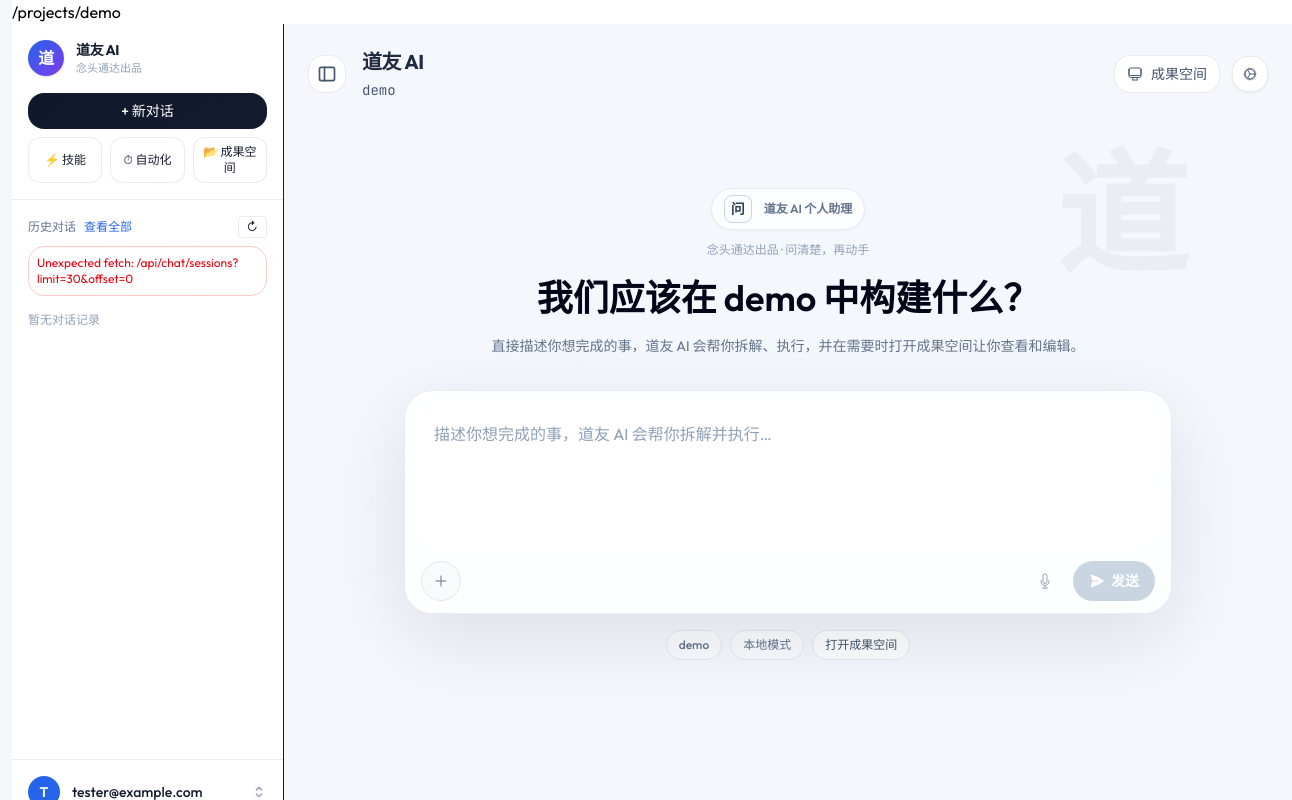
Test case: ChatPage workbench dock › can send another task after a confirmed pause
Type "先做一个长任务" into the text box at (788, 475), box top-left (417, 403), bottom-right (1159, 547)
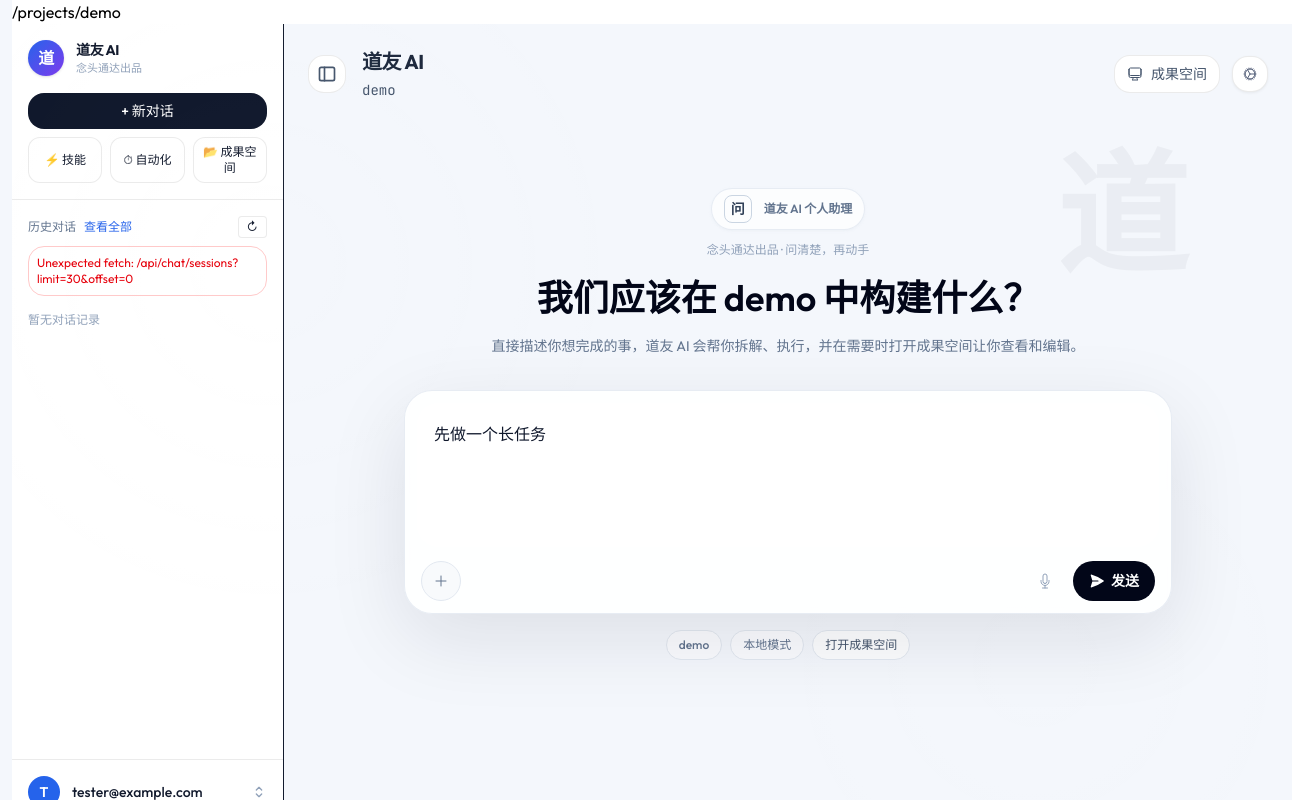
Click the button "发送" at (1114, 581), box top-left (1073, 561), bottom-right (1155, 601)
(page scrolled)
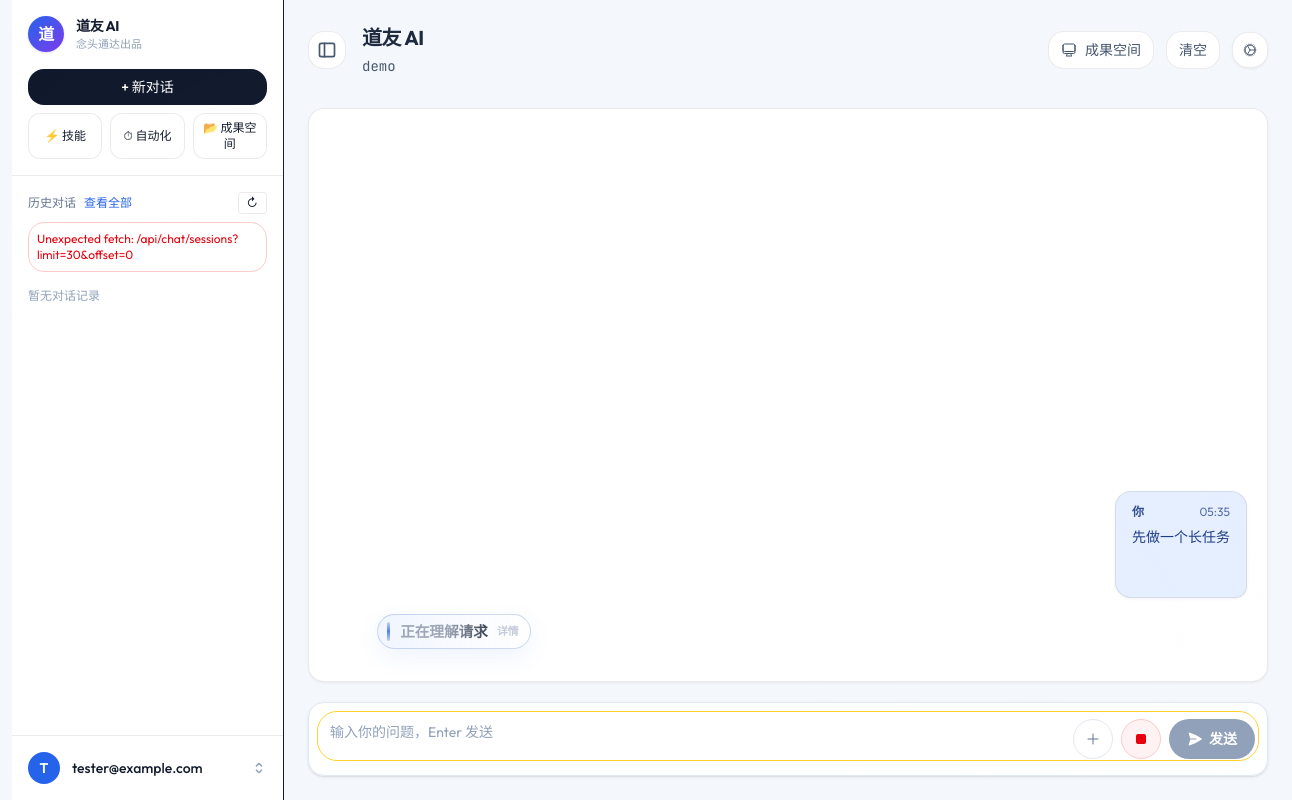
Click the button named "暂停这次任务" at (1141, 739), box top-left (1121, 719), bottom-right (1161, 759)
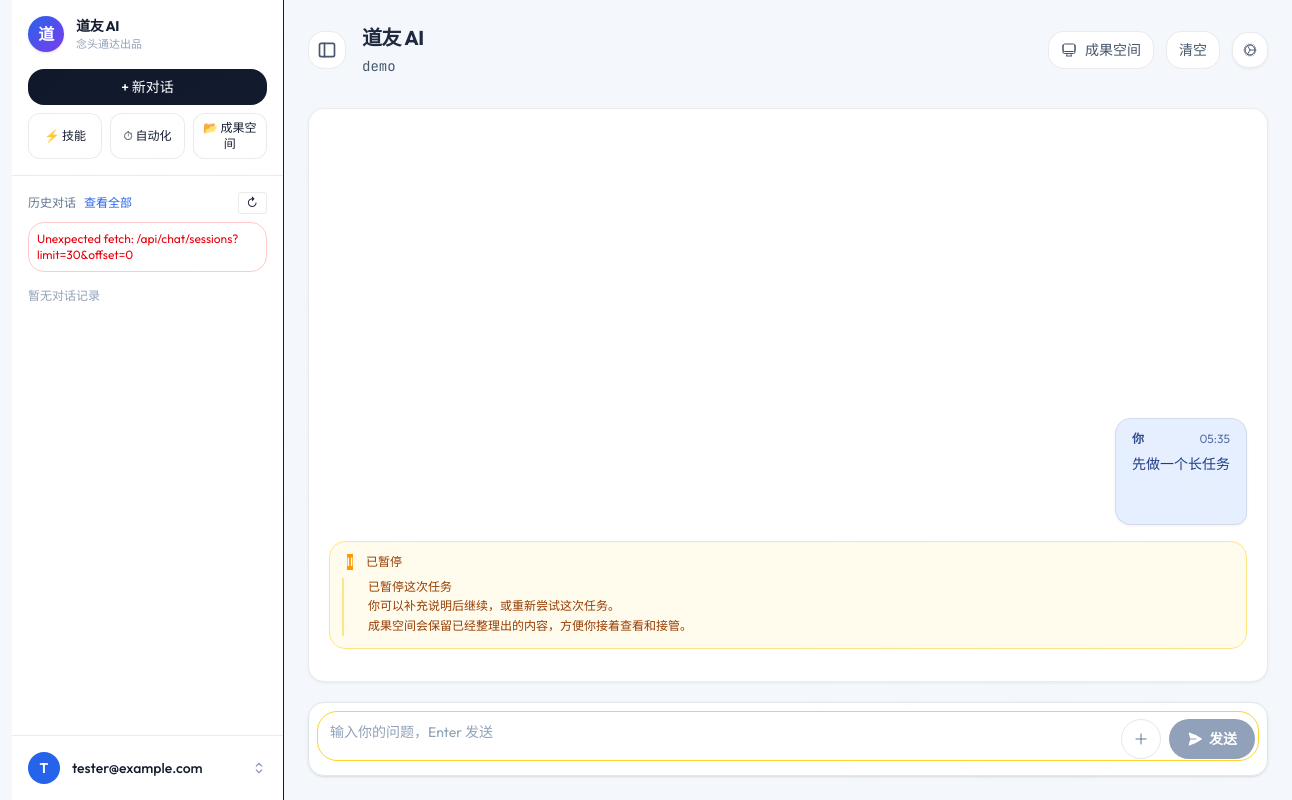
Expected: the text "已暂停" is shown, top-left (366, 554), bottom-right (402, 570)
Type "现在做另一个任务" into the text box at (788, 736), box top-left (317, 711), bottom-right (1259, 761)
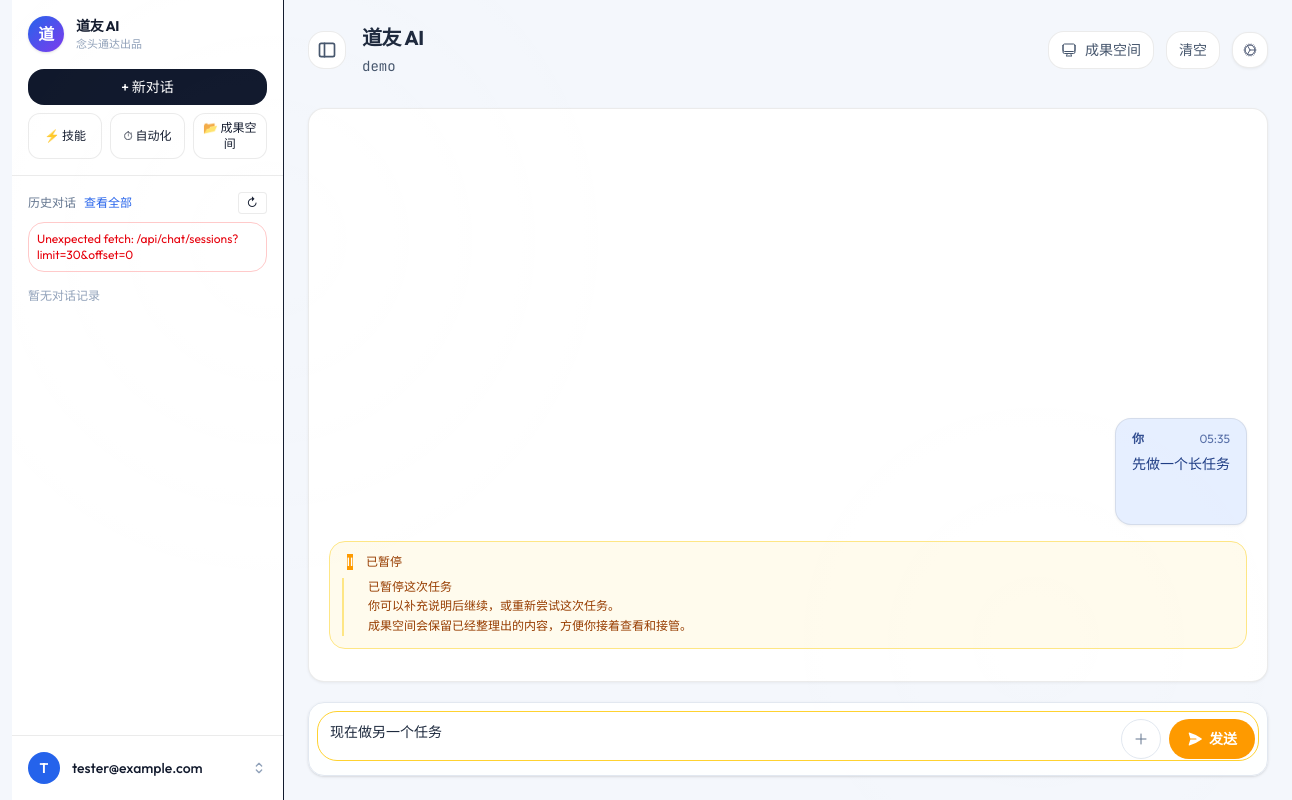
Click the button "发送" at (1212, 739), box top-left (1169, 719), bottom-right (1255, 759)
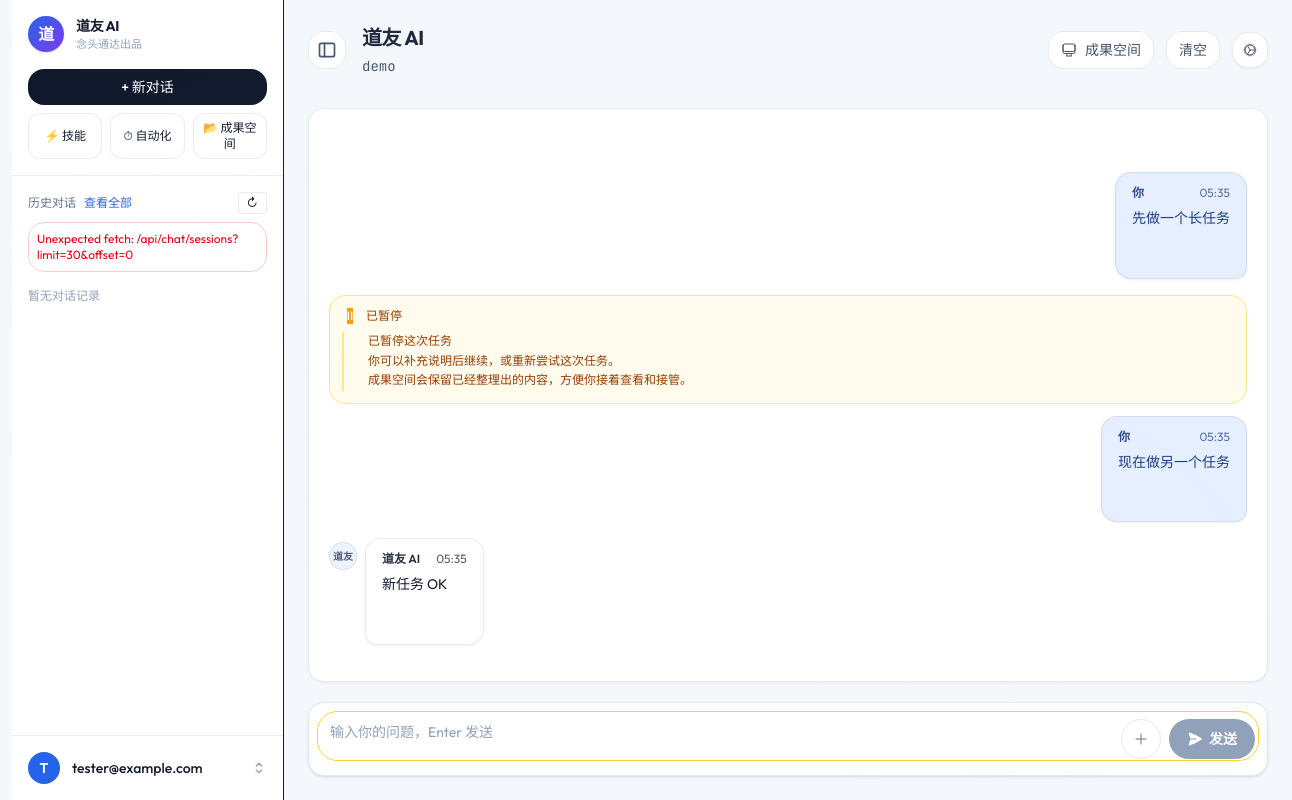
Expected: the text "新任务 OK" is shown, top-left (382, 575), bottom-right (447, 593)
